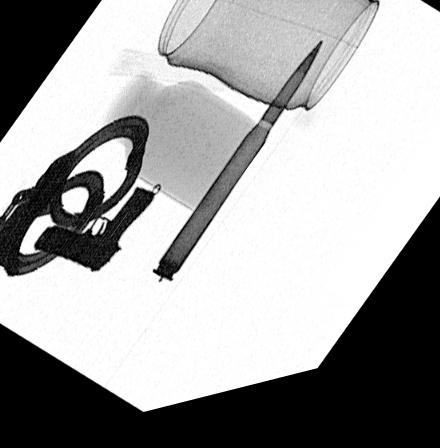Bullet: (148, 55, 323, 292)
Gun: (28, 191, 156, 280)
HandCuffs: (0, 119, 148, 280)
